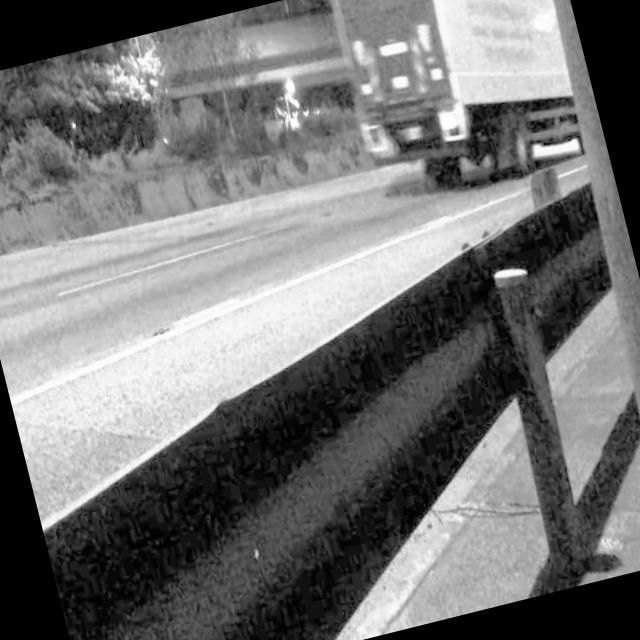Truck: (324, 0, 597, 210)
